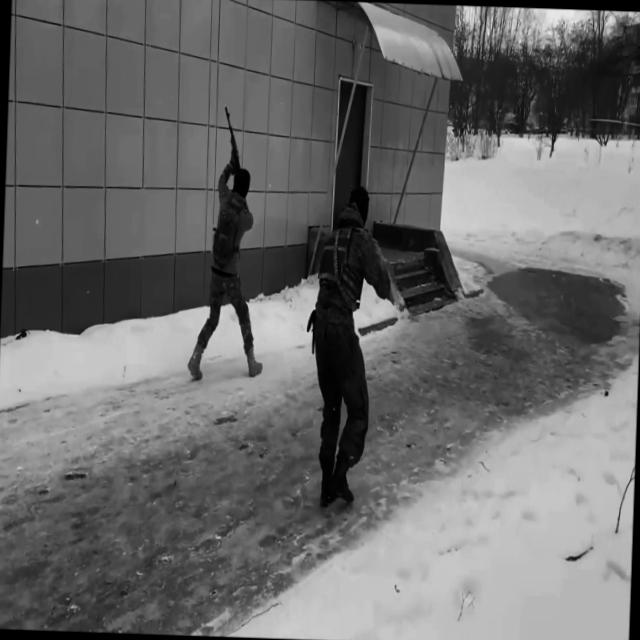gun: (221, 104, 245, 191)
person: (300, 184, 395, 508)
person with a gun: (186, 104, 272, 384)
